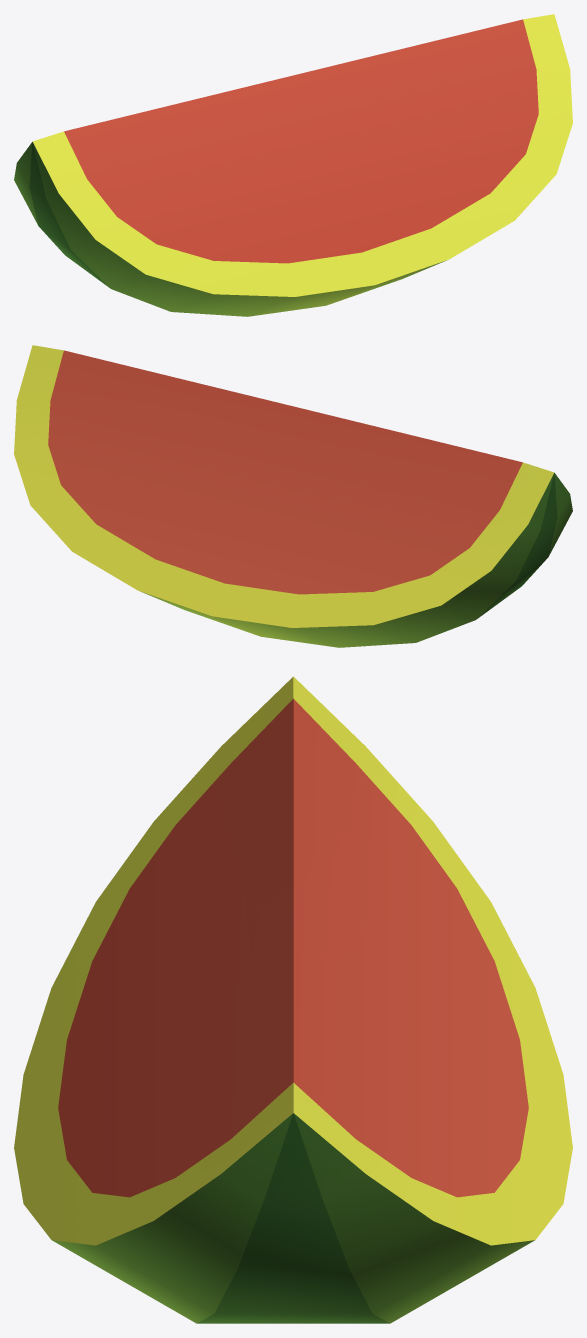
The model's file is Melon_Slice_02.glb.
3 views of the same model, one above another, from view 1: azimuth 30°, elevation 25°; view 2: azimuth 150°, elevation 25°; view 3: azimuth 270°, elevation 25° (orthographic). The views are drawn at different scales.
Visible parts, largest first — view 1: Melon_Slice_02; view 2: Melon_Slice_02; view 3: Melon_Slice_02.
Part boxes in pixels (<box>): Melon_Slice_02: <box>14,14,572,316</box>; Melon_Slice_02: <box>14,345,572,647</box>; Melon_Slice_02: <box>14,676,572,1323</box>.
Bounding box in the file's own units: 0.4713 × 0.1782 × 0.255.
Materials: 1 (1 with a texture image).
